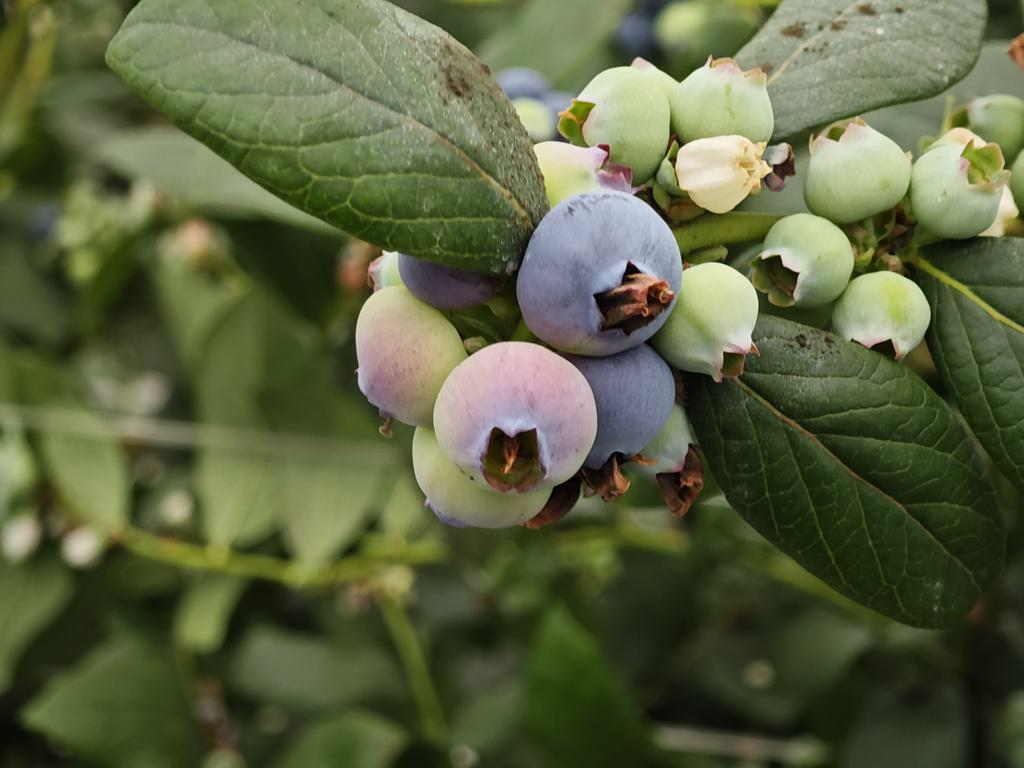RipeBlueBerry: (517, 185, 689, 356)
Semi-RipeBlueBerry: (432, 338, 601, 497)
